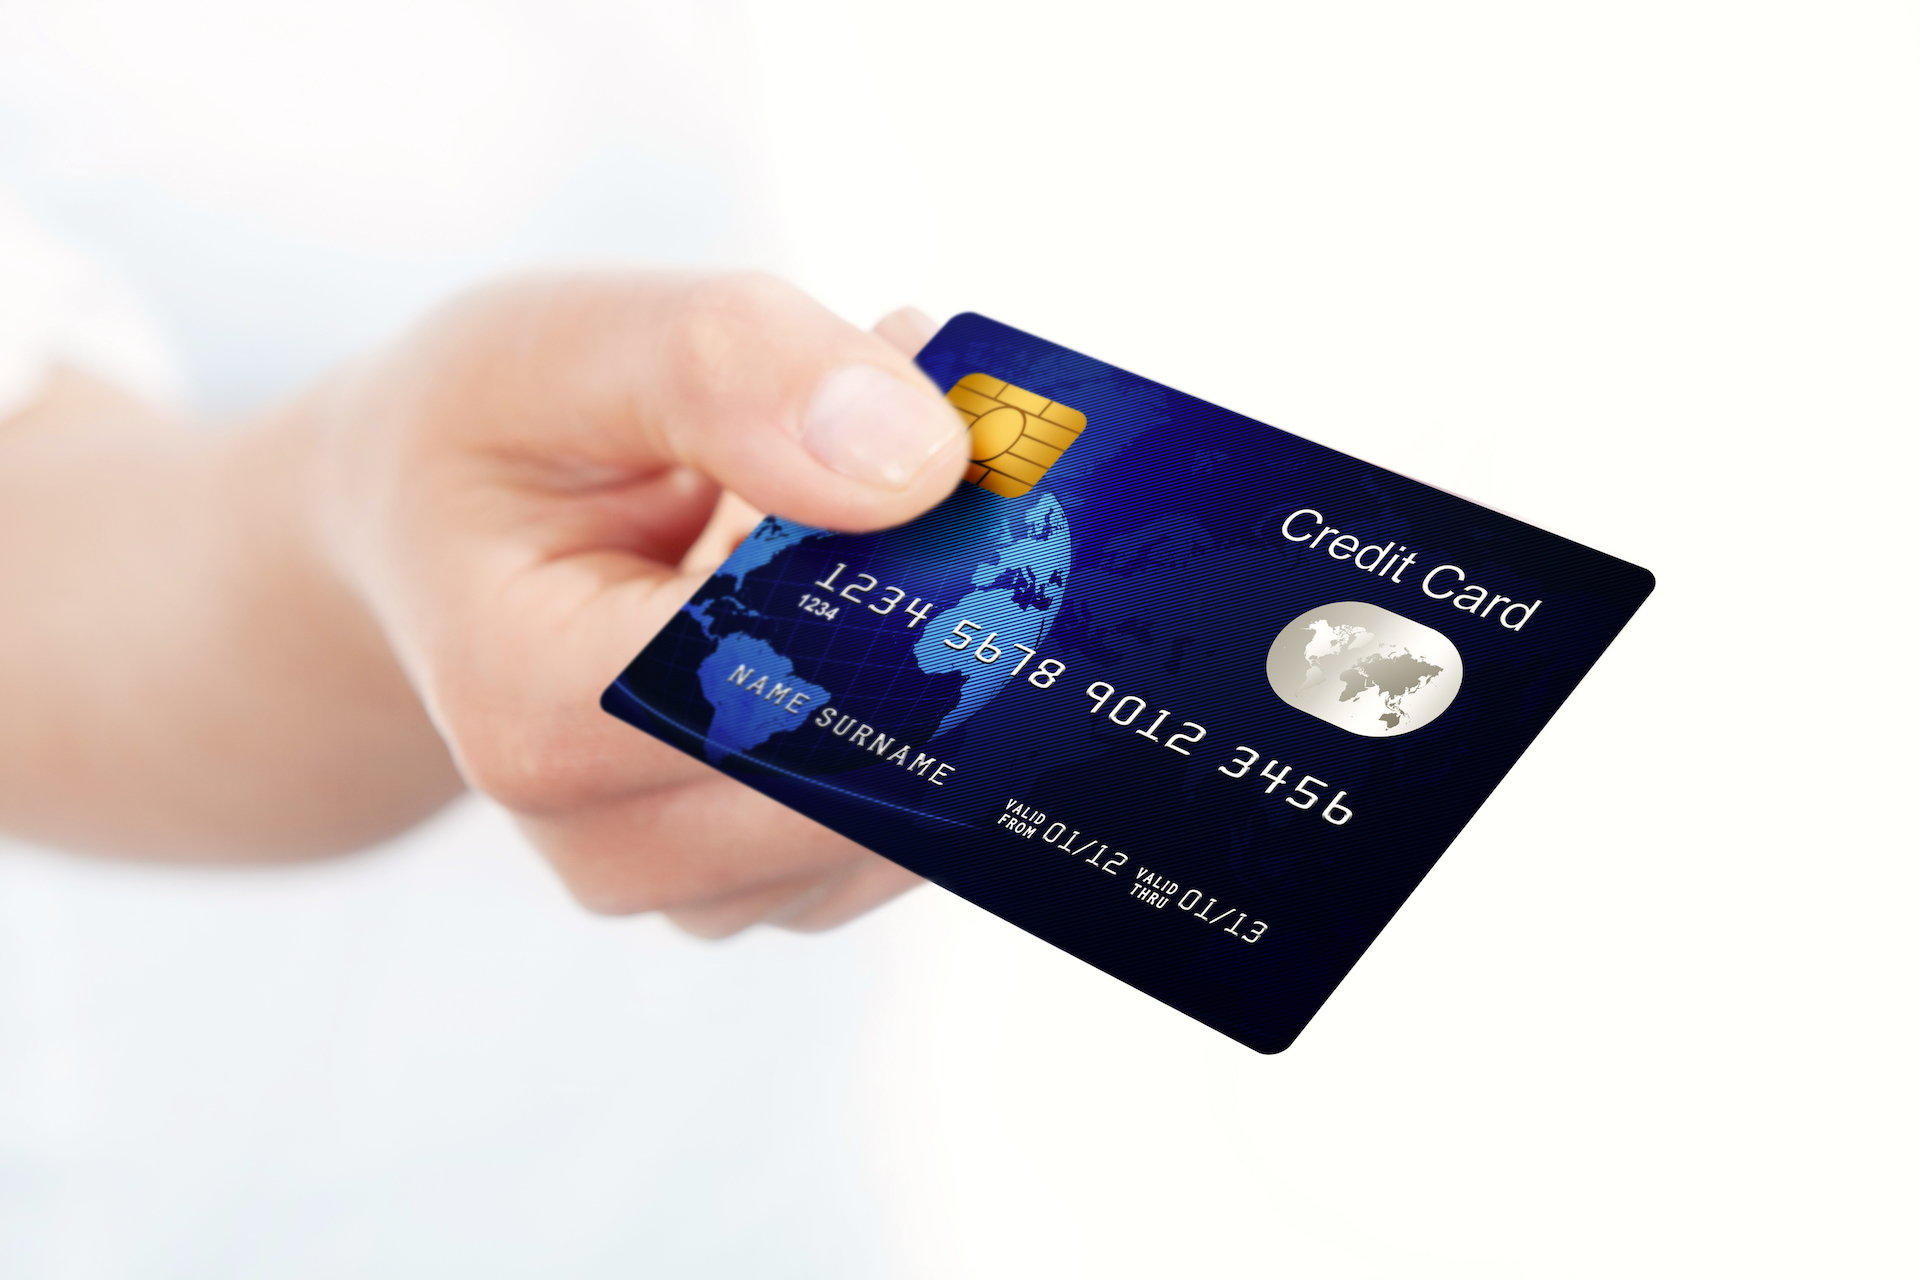tarjeta: (596, 306, 1664, 1059)
